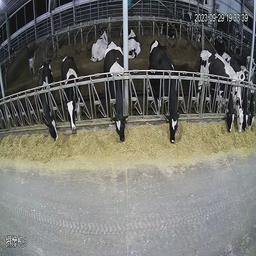cow: (149, 38, 180, 145), (199, 46, 236, 133), (104, 40, 129, 141), (37, 62, 60, 142), (62, 54, 81, 131), (90, 29, 107, 63), (127, 21, 141, 57), (160, 19, 177, 38)
